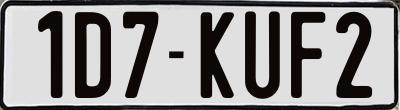1: (36, 10, 66, 103)
2: (333, 11, 370, 99)
7: (120, 11, 158, 98)
D: (74, 12, 113, 101)
F: (289, 10, 324, 97)
K: (201, 10, 236, 99)
U: (243, 11, 280, 99)
